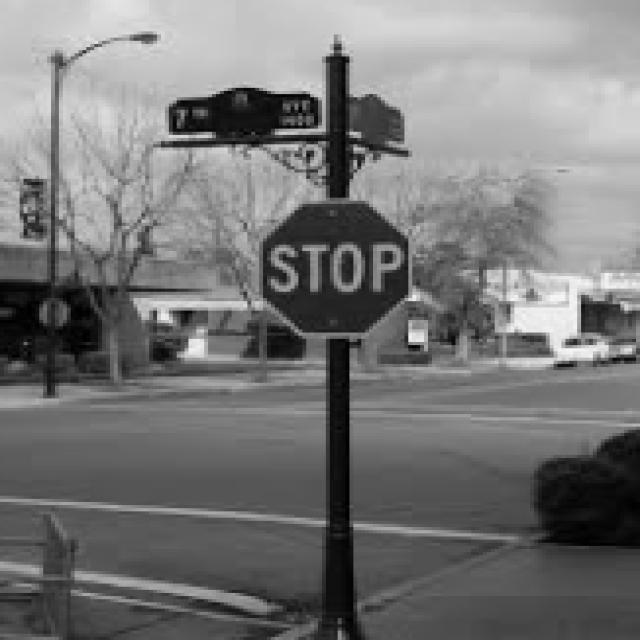Stop-signs: (257, 201, 415, 338)
